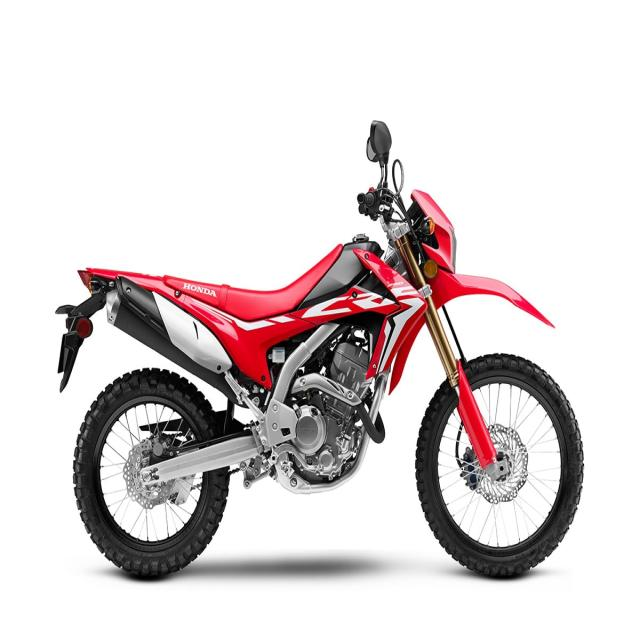Motorcycle: (58, 122, 585, 577)
